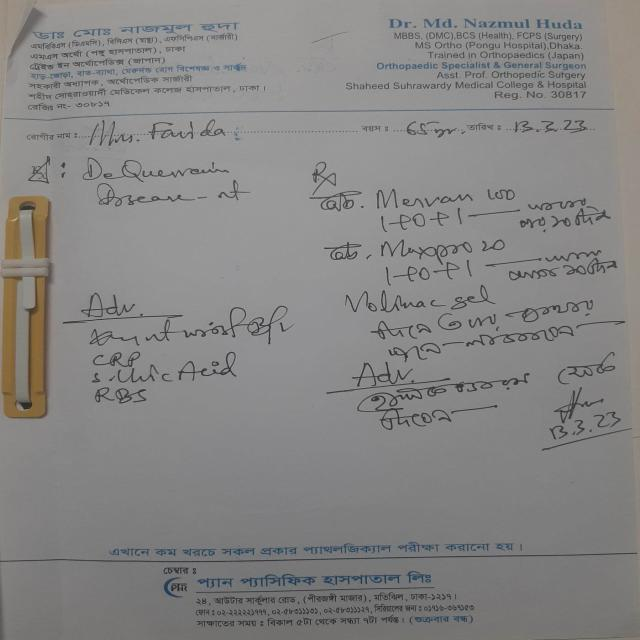Maxpro: (379, 236, 476, 262)
Merrvan: (364, 183, 477, 208)
Volinac: (338, 283, 448, 313)
